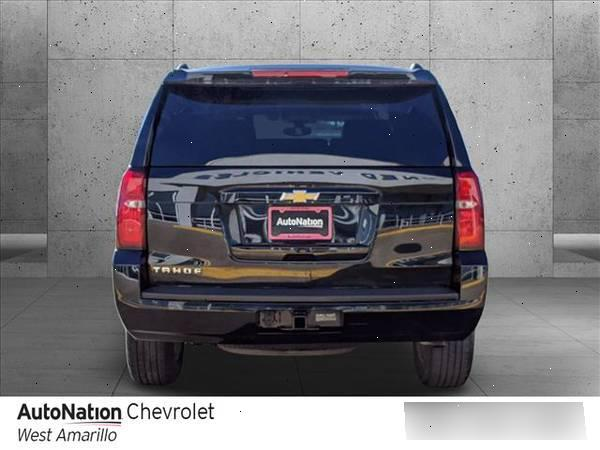Left_Taillight: (113, 166, 147, 248)
Rear_Bumper: (111, 247, 491, 345)
Rear_Windshield: (148, 81, 452, 162)
Right_Taillight: (456, 169, 486, 251)
Roof: (131, 64, 472, 168)
Tailgate: (144, 158, 456, 283)
Wheel: (123, 333, 185, 391), (412, 334, 475, 391)
